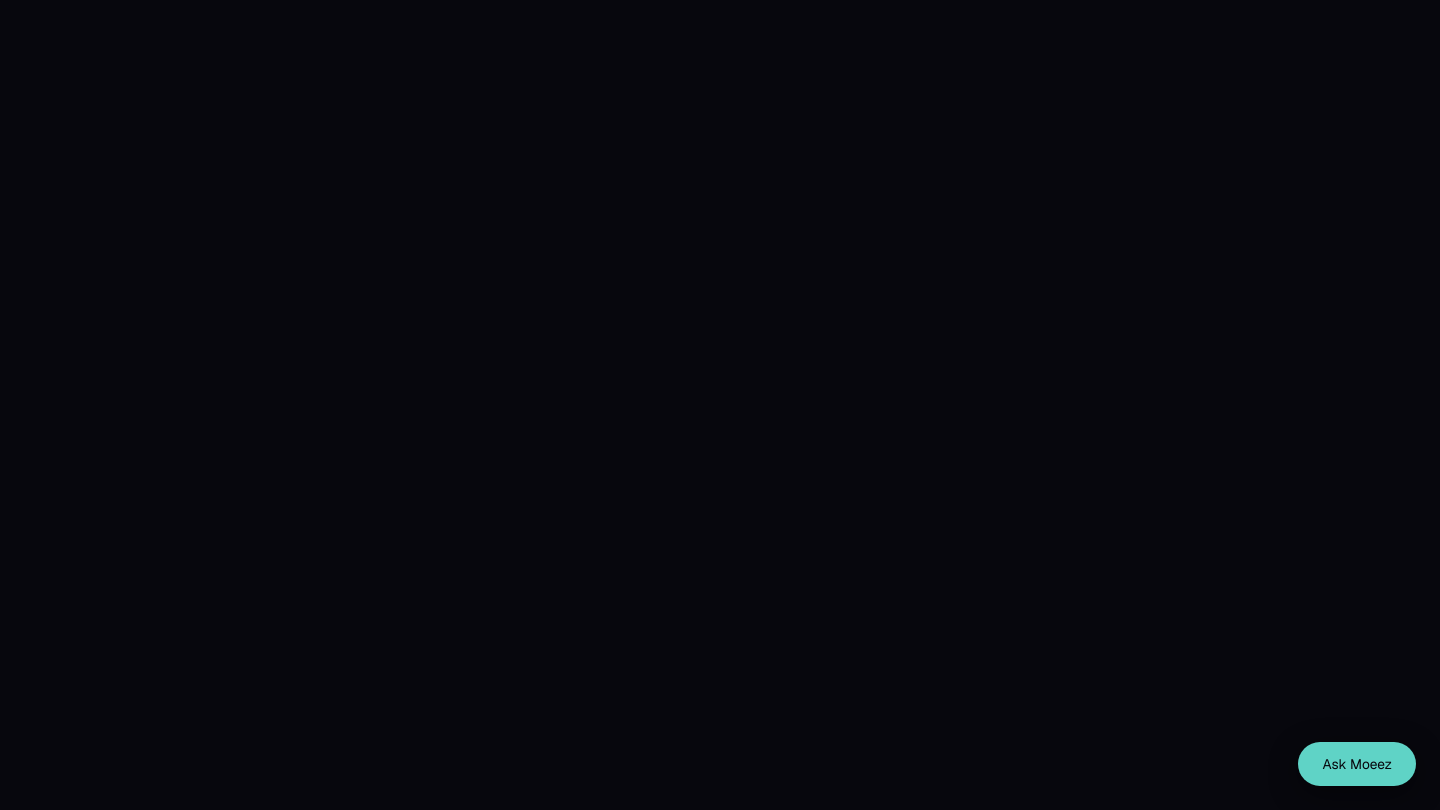
Test: ChatDock › sends a question and shows the reply in a live region
Click the button "Ask Moeez".
click(1357, 764)  # box [1298,742,1416,786]
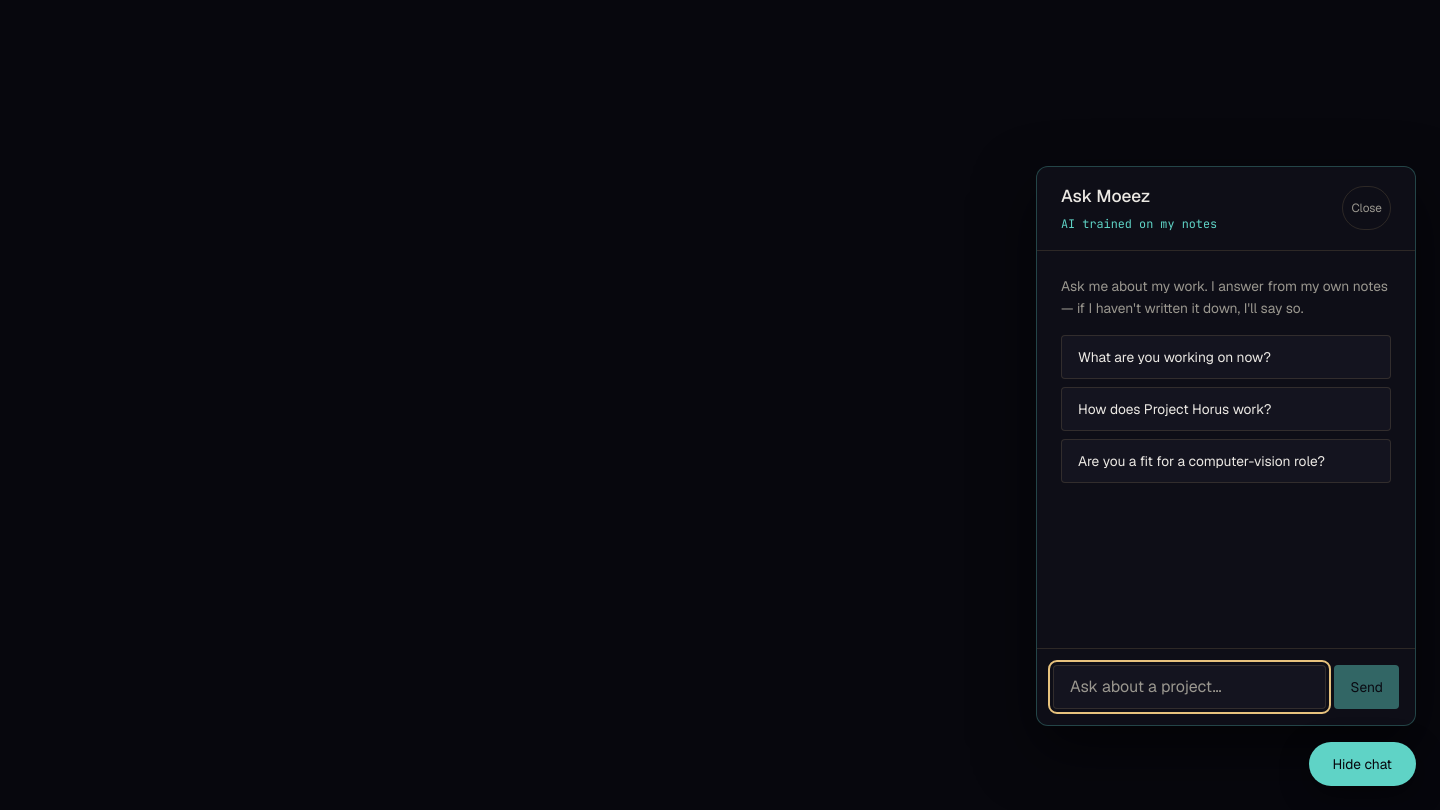
Type "How does Horus work?" into the field.
click(1190, 687); type("How does Horus work?")  # box [1053,665,1326,709]
Then press Enter
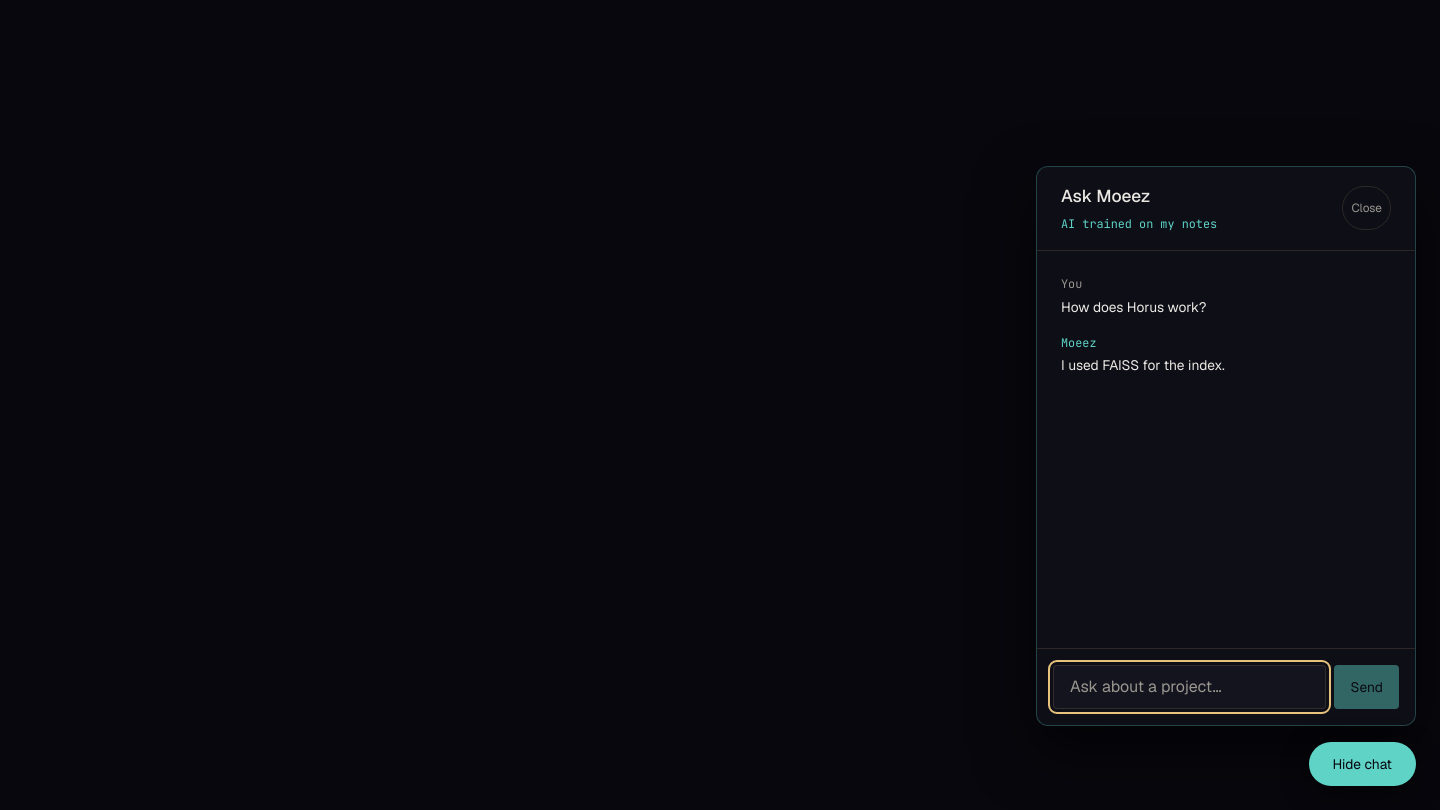
Check: the list shows "I used FAISS for the index.", box [1061,356,1225,374]
Check: the list shows "How does Horus work?", box [1061,298,1206,316]
